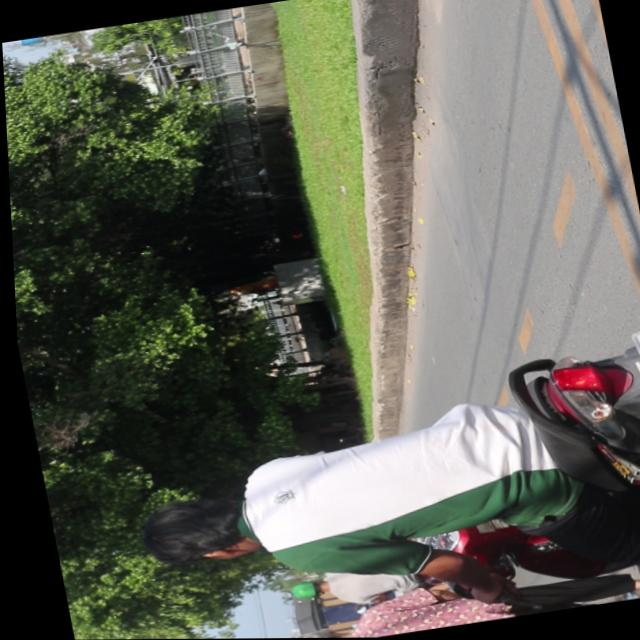helmet: (281, 576, 322, 601)
licenseplate: (103, 315, 640, 639)
motorcyclist: (127, 485, 260, 569)
nohelmet: (628, 316, 640, 393)
